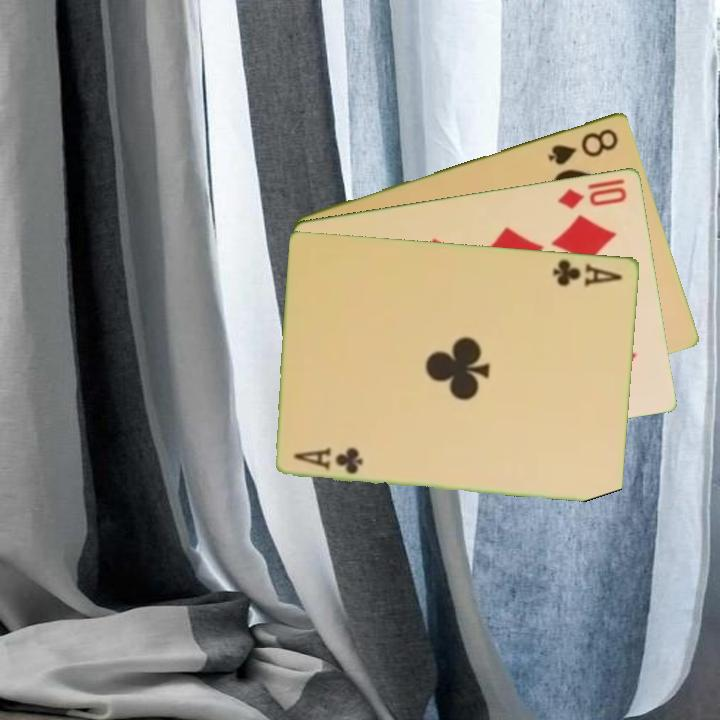10d: (555, 183, 630, 211)
8s: (544, 124, 622, 168)
Ac: (550, 255, 626, 289), (291, 443, 367, 477)
